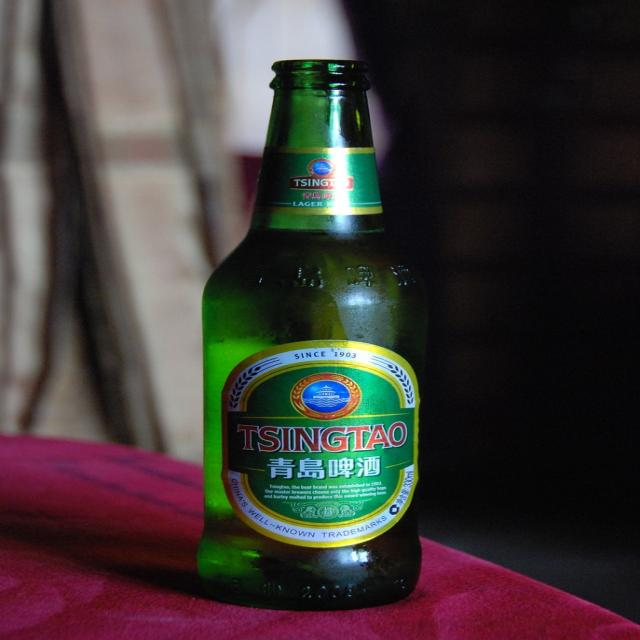tsingtao: (216, 339, 423, 550)
